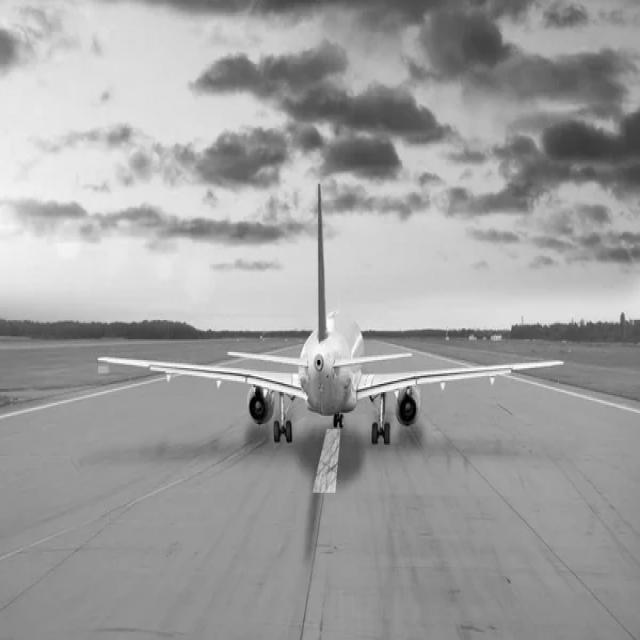Aircraft: (87, 179, 569, 477)
